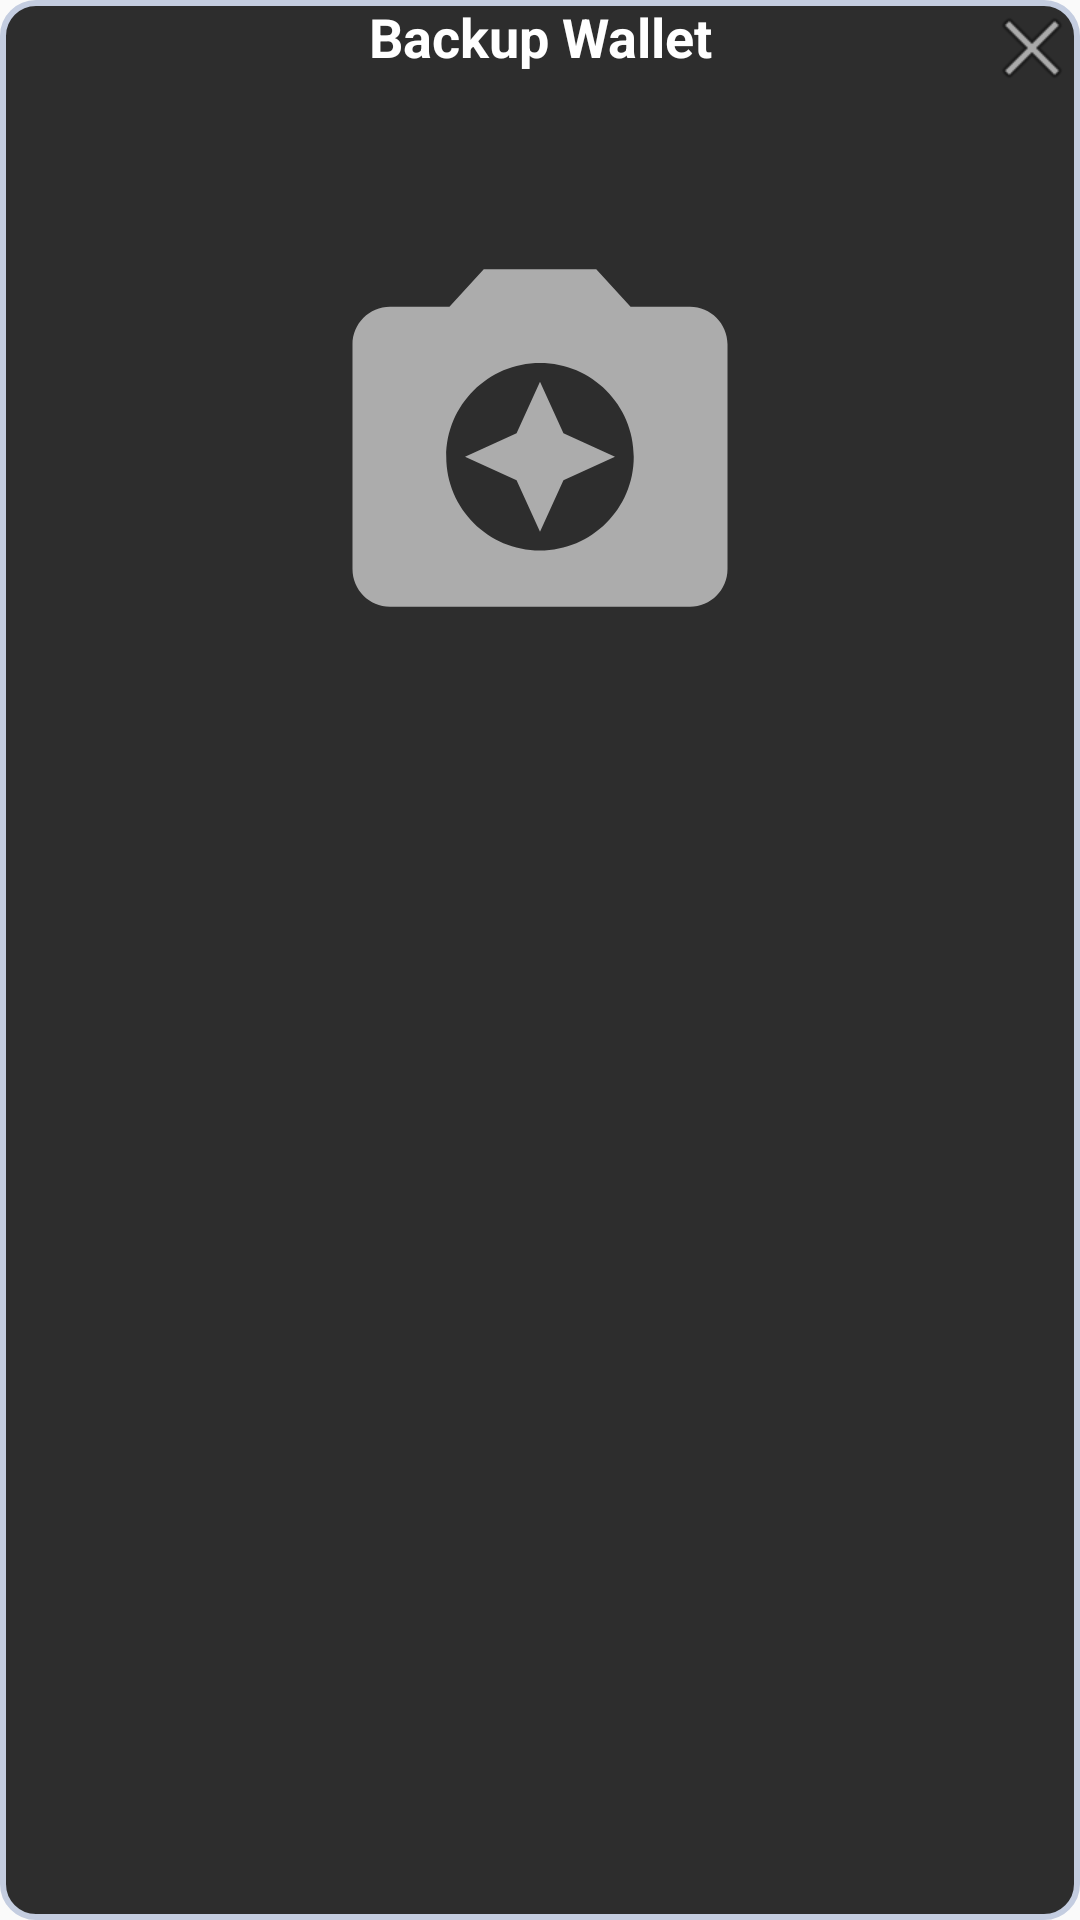

Icon bounding boxes for this 1080 × 1920 phone screenshot, format (x1, y1, x2, y2):
close clear cancel: (984, 0, 1080, 96)
